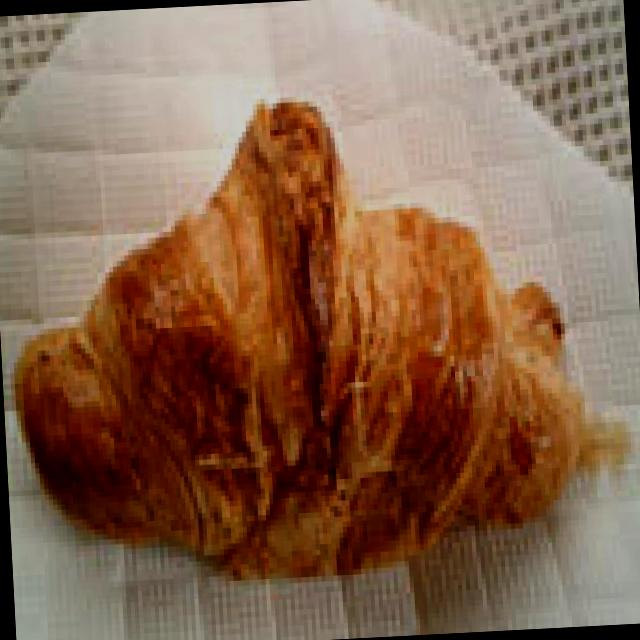Croissant: (6, 61, 616, 603)
